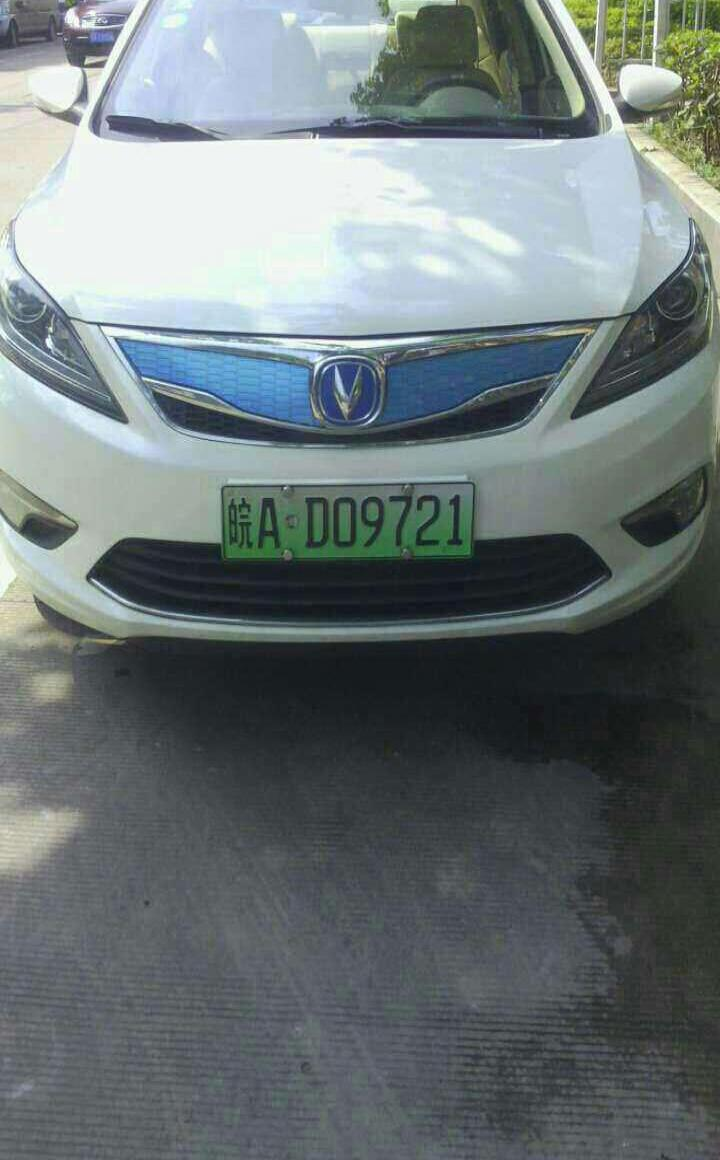car_id: (223, 481, 471, 561)
